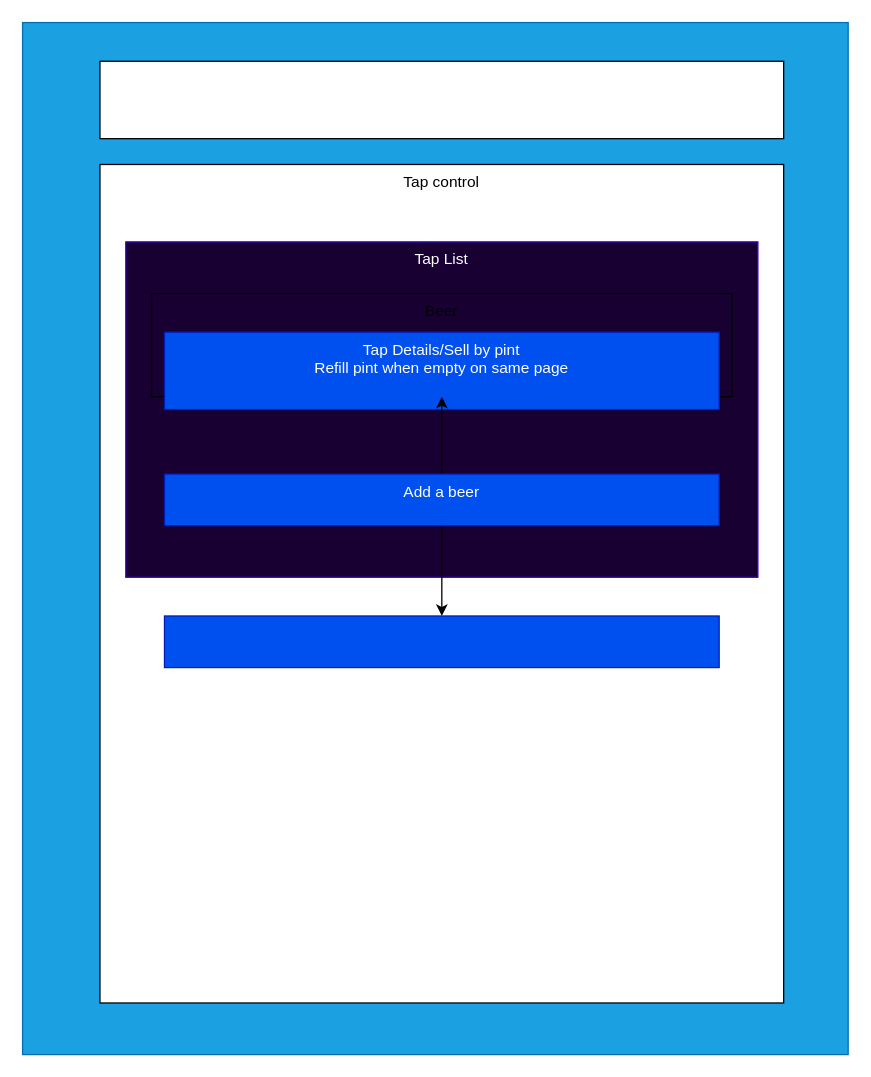
Image size: 871x1077. Some labels were removed from this diagram. The shapes that lost their labels are listed below. From the top down, each one's centre as x and y in pixels, then its label:
point 441,99: Header
point 441,641: New beer form
